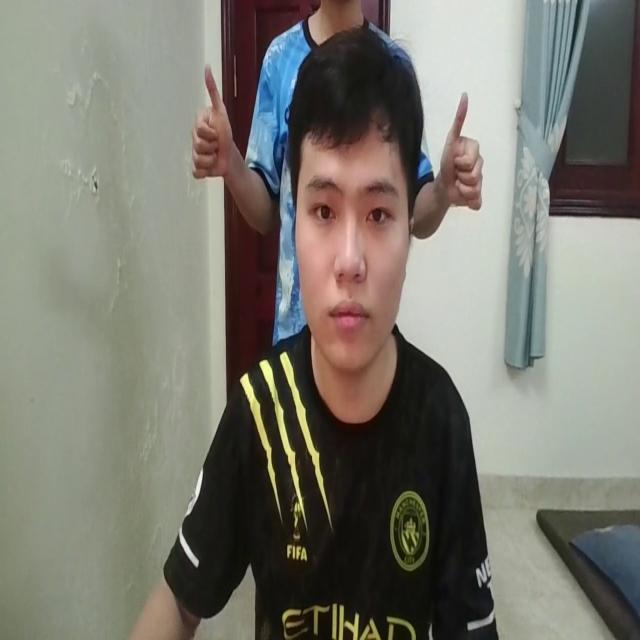student: (148, 28, 500, 640)
